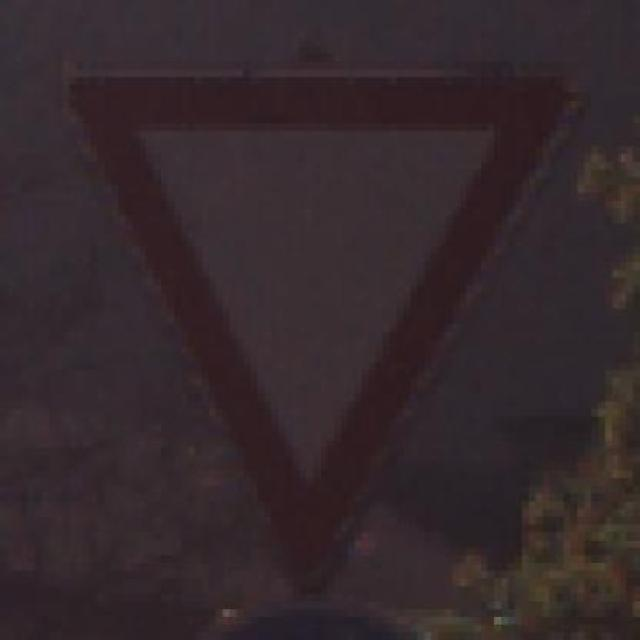Give Way: (55, 46, 612, 586)
